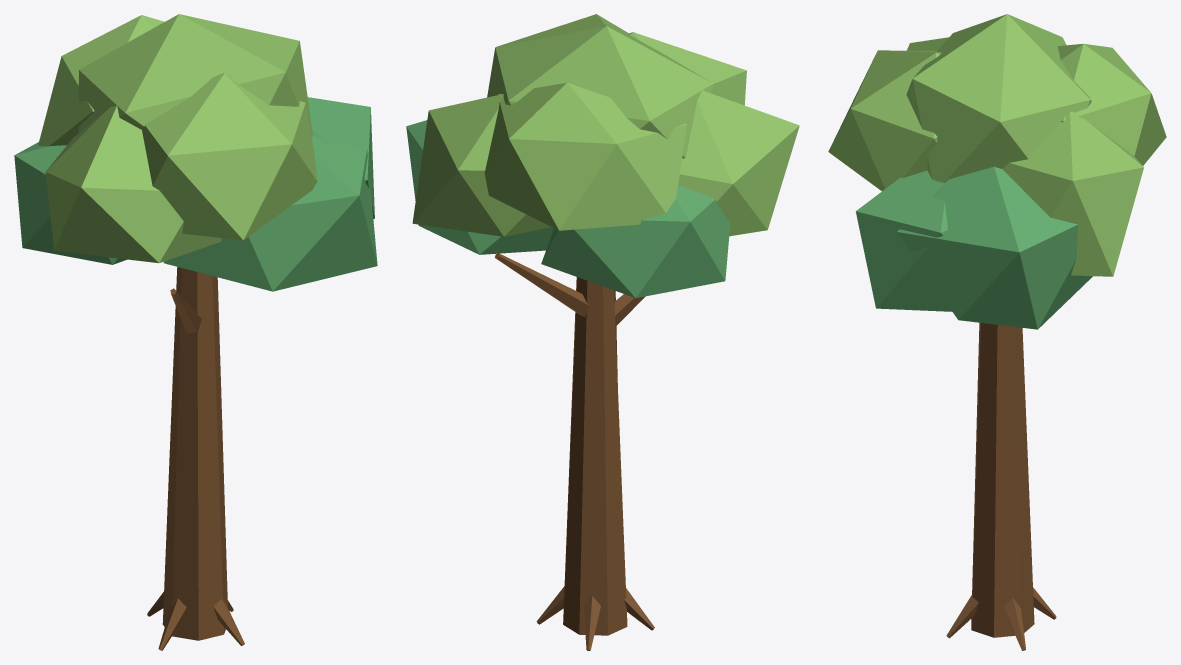
The model's file is sm_env_forest_maple.glb.
The picture shows the model from 3 angles, left to right: view 1: azimuth 30°, elevation 25°; view 2: azimuth 150°, elevation 25°; view 3: azimuth 270°, elevation 25°; orthographic projection.
Parts seen in each view (by area): view 1: MapleCrown.005, Trunk, MapleCrown.007, MapleCrown.004, MapleCrown.006, MapleCrown.002, MapleCrown.003, MapleCrown, Branch.001, RootFlare.002, RootFlare.003; view 2: MapleCrown.002, Trunk, MapleCrown.007, MapleCrown.003, MapleCrown.004, MapleCrown.001, MapleCrown, MapleCrown.005, Branch, RootFlare.001; view 3: MapleCrown.007, MapleCrown, Trunk, MapleCrown.001, MapleCrown.005, MapleCrown.006, MapleCrown.002, RootFlare.
Boxes of the visible parts, x1=… form: MapleCrown.005: x1=142, y1=73, x2=317, y2=240; Trunk: x1=162, y1=267, x2=227, y2=640; MapleCrown.007: x1=78, y1=14, x2=312, y2=138; MapleCrown.004: x1=45, y1=105, x2=221, y2=263; MapleCrown.006: x1=163, y1=134, x2=377, y2=291; MapleCrown.002: x1=38, y1=15, x2=164, y2=146; MapleCrown.003: x1=14, y1=142, x2=126, y2=264; MapleCrown: x1=307, y1=97, x2=374, y2=218; Branch.001: x1=170, y1=288, x2=201, y2=332; RootFlare.002: x1=158, y1=598, x2=186, y2=650; RootFlare.003: x1=213, y1=599, x2=244, y2=645; MapleCrown.002: x1=484, y1=82, x2=687, y2=230; Trunk: x1=563, y1=277, x2=627, y2=635; MapleCrown.007: x1=487, y1=14, x2=713, y2=158; MapleCrown.003: x1=541, y1=185, x2=730, y2=297; MapleCrown.004: x1=678, y1=90, x2=799, y2=236; MapleCrown.001: x1=412, y1=94, x2=550, y2=236; MapleCrown: x1=406, y1=120, x2=553, y2=254; MapleCrown.005: x1=628, y1=32, x2=746, y2=105; Branch: x1=495, y1=253, x2=589, y2=316; RootFlare.001: x1=583, y1=595, x2=600, y2=650; MapleCrown.007: x1=906, y1=14, x2=1091, y2=182; MapleCrown: x1=897, y1=167, x2=1092, y2=329; Trunk: x1=971, y1=322, x2=1034, y2=637; MapleCrown.001: x1=1002, y1=111, x2=1143, y2=276; MapleCrown.005: x1=828, y1=50, x2=941, y2=190; MapleCrown.006: x1=855, y1=170, x2=952, y2=311; MapleCrown.002: x1=1057, y1=43, x2=1166, y2=165; RootFlare: x1=1004, y1=598, x2=1025, y2=650.
Bounding box in the file's own units: 4.25 × 7.27 × 3.67.
